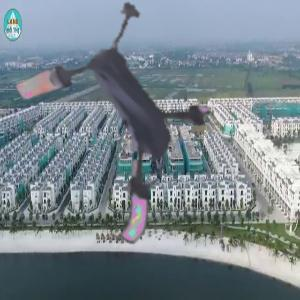drone: (18, 12, 226, 220)
